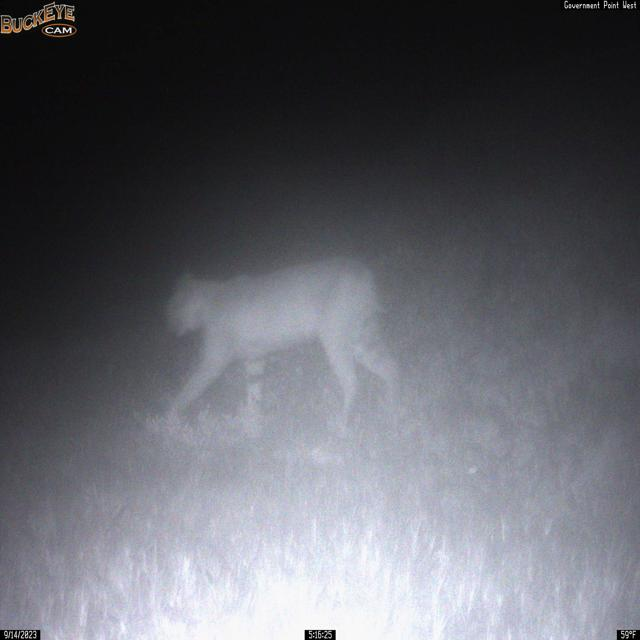bobcat: (163, 253, 403, 436)
